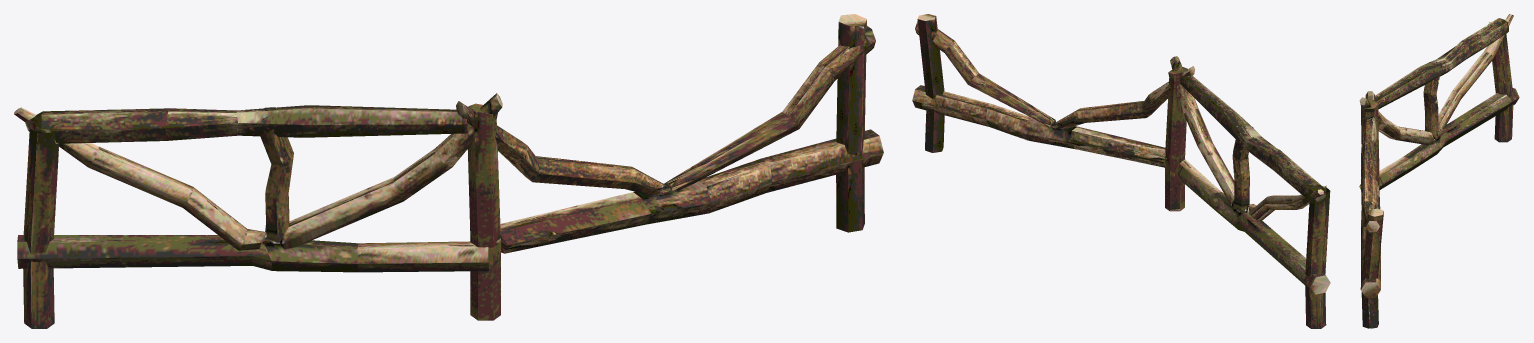
File: Fence_var2.fbx
The picture shows the model from 3 angles, left to right: view 1: azimuth 30°, elevation 25°; view 2: azimuth 150°, elevation 25°; view 3: azimuth 270°, elevation 25°; orthographic projection. The views are drawn at different scales.
Parts seen in each view (by area): view 1: Fence; view 2: Fence; view 3: Fence.
Part boxes in pixels (x1,y1,x2,y2): Fence: (14,14,883,328); Fence: (912,14,1330,328); Fence: (1359,14,1519,328).
Bounding box in the file's own units: 479 × 146 × 157.
Materials: 1 (1 with a texture image).
